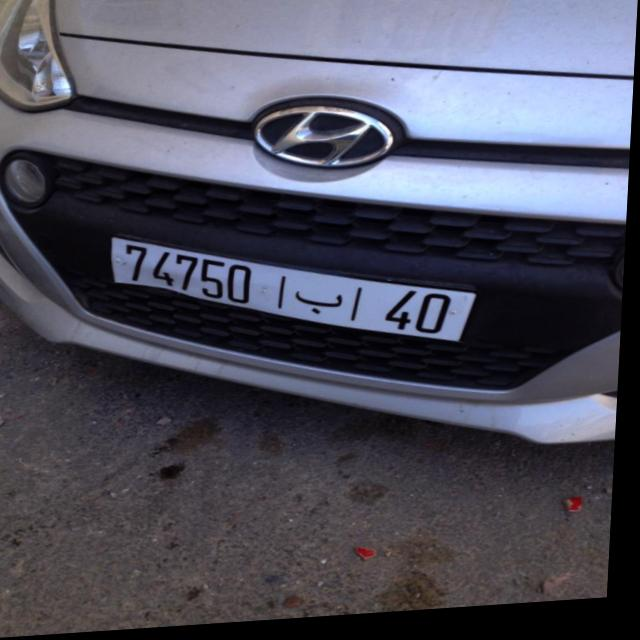License-Plate: (114, 239, 480, 347)
